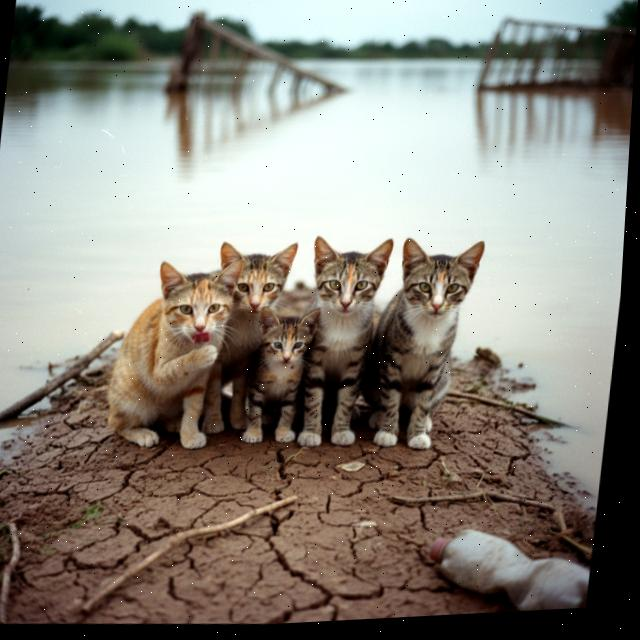cat: (358, 225, 494, 463), (103, 246, 251, 463), (275, 220, 403, 459), (191, 228, 291, 442), (242, 291, 324, 457)
